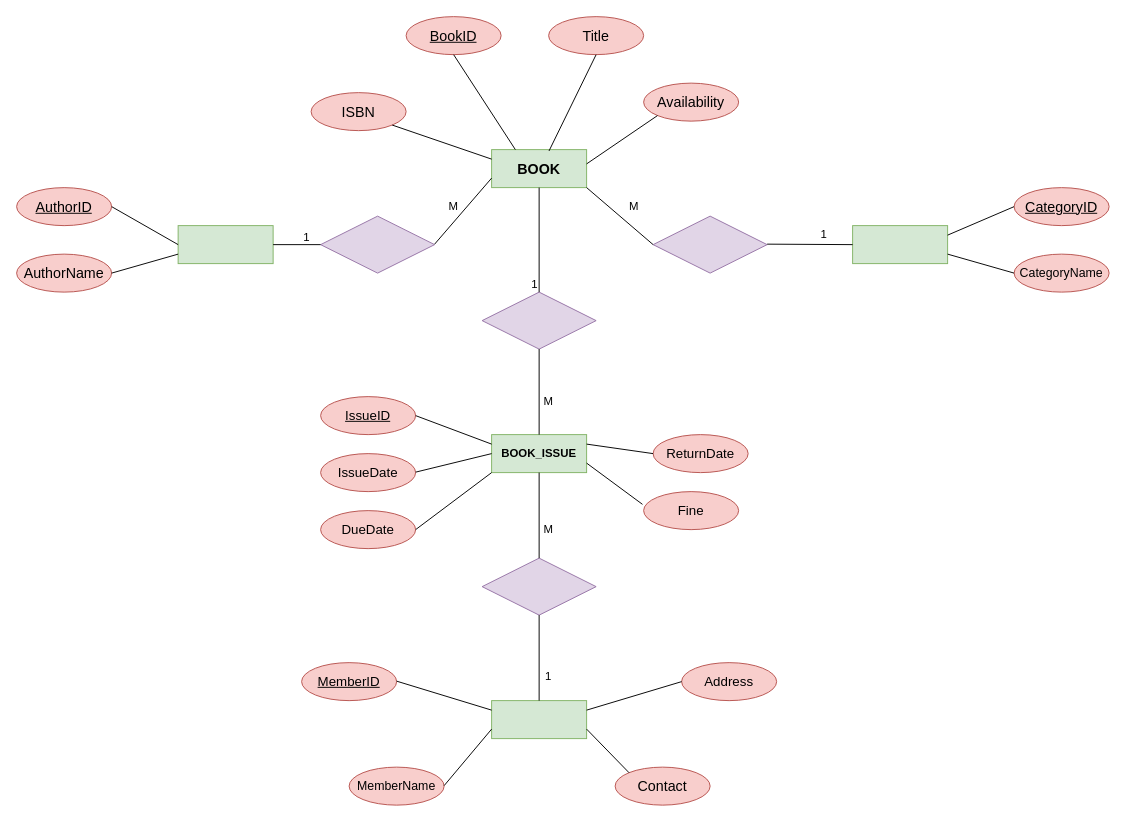
Image size: 1126x822. Some labels were removed from this diagram. Here are the shapes that lost their labels. From the top down, the centre of each, then its label:
the point at 225,244: AUTHOR
the point at 377,244: Writes
the point at 709,244: Belongs To
the point at 900,244: CATEGORY
the point at 538,320: Is Issued in
the point at 538,586: Issued To
the point at 539,719: MEMBER
